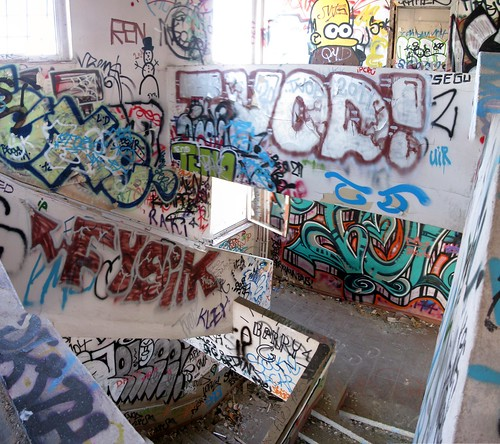graffiti: (172, 65, 473, 196), (1, 65, 197, 214), (263, 182, 461, 323), (46, 212, 249, 317), (79, 323, 213, 413), (306, 1, 448, 73), (211, 315, 328, 393), (94, 1, 209, 73)
